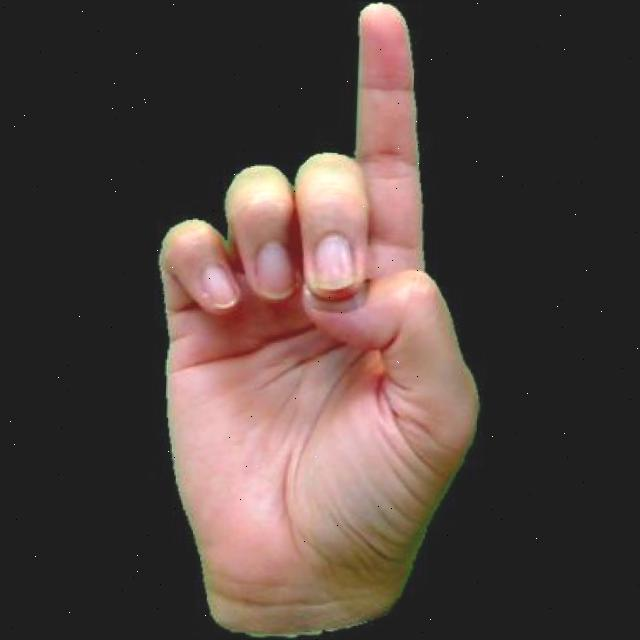d: (139, 0, 496, 640)
